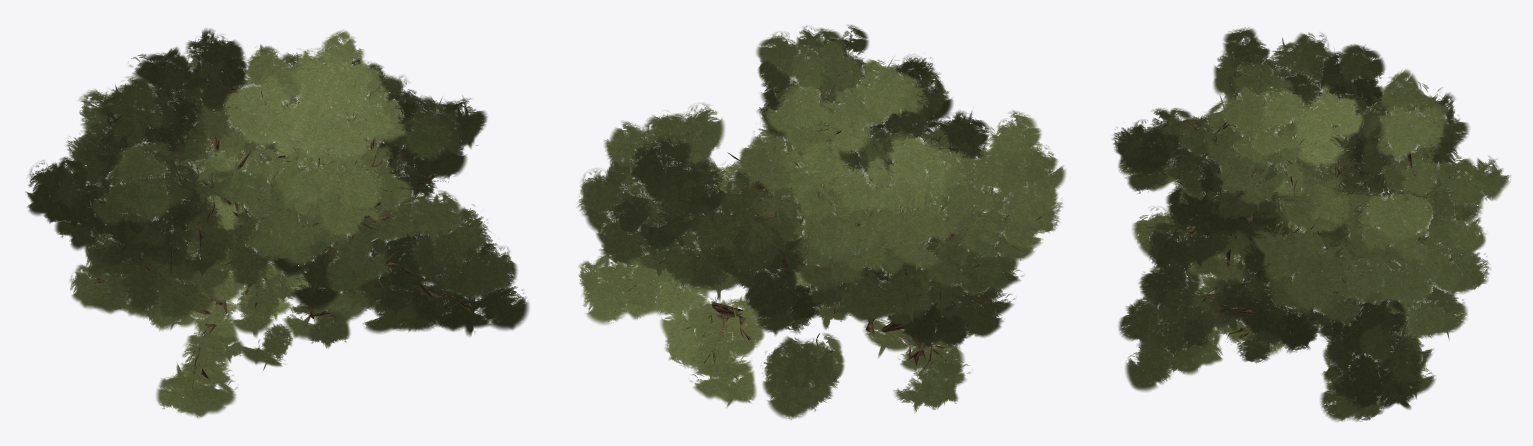
File: tree_jacaranda.glb
3 renders of one model, left to right at view 1: azimuth 30°, elevation 25°; view 2: azimuth 150°, elevation 25°; view 3: azimuth 270°, elevation 25°, orthographic. The views are drawn at different scales.
Visible parts, largest first — view 1: F_Leaves, F_Wood; view 2: F_Leaves, F_Wood; view 3: F_Leaves, F_Wood.
Boxes of the visible parts, x1,y1,x2,y2 form: F_Leaves: (25,28,529,418); F_Wood: (43,46,501,389); F_Leaves: (577,25,1065,419); F_Wood: (611,42,1041,379); F_Leaves: (1112,27,1510,421); F_Wood: (1140,62,1459,377).
Bounding box in the file's own units: 26.37 × 19.65 × 21.08.
Materials: 2 (2 with a texture image).
